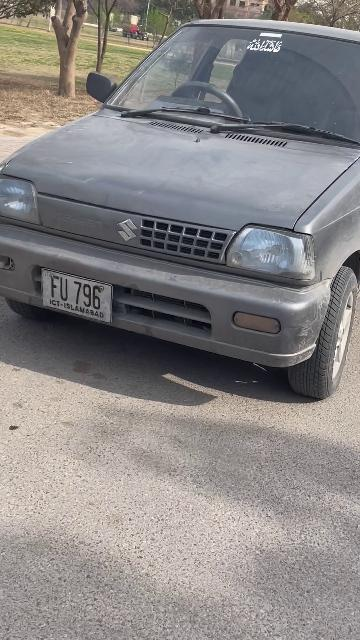plate: (40, 268, 113, 324)
